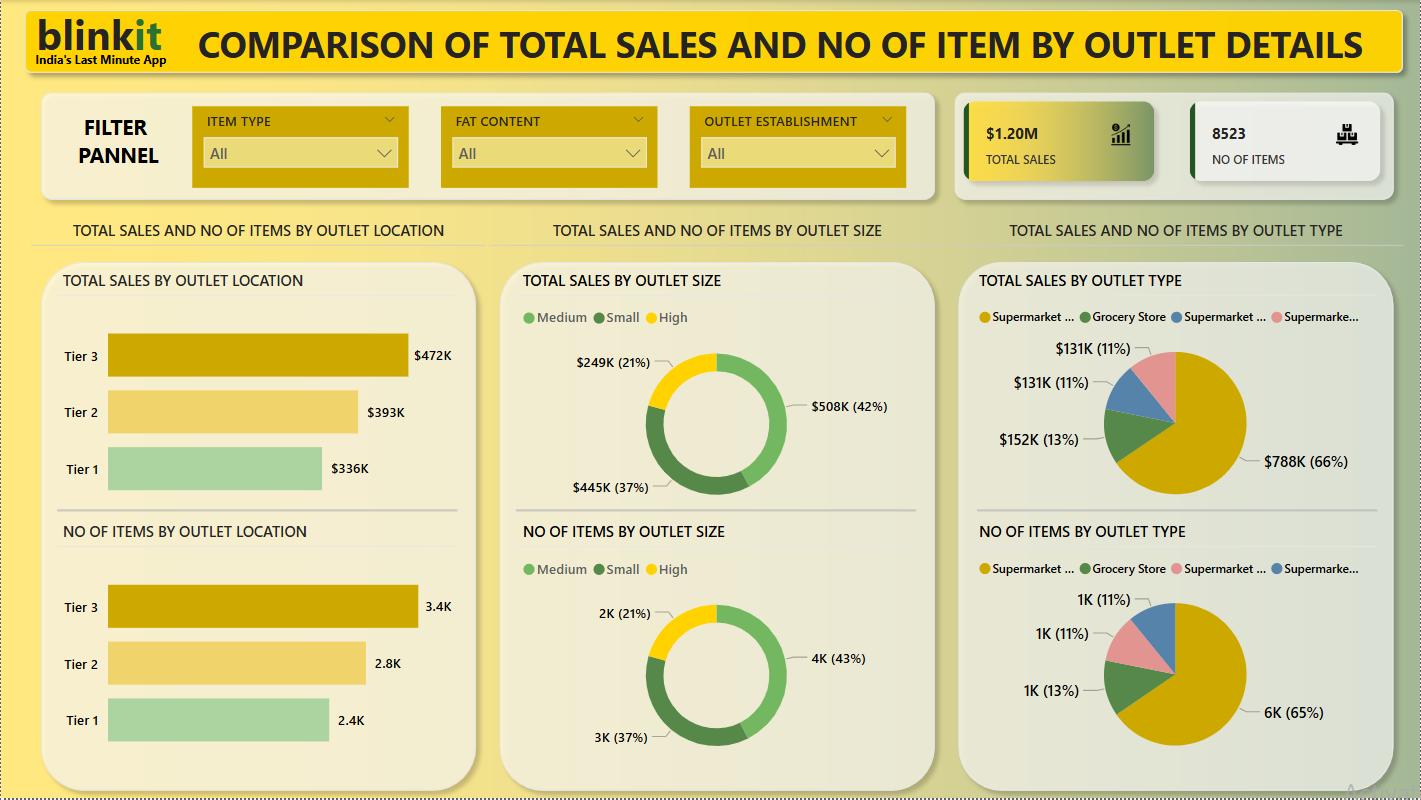

The page's visual inventory and layout, read from the dashboard file:
{"tool":"powerbi","page":{"name":"Page 2","canvas":[1280,720],"ordinal":1},"visuals":[{"type":"shape","box":[12.2,0,1260.7,74.6],"z":0},{"type":"textbox","box":[172.5,13.3,1088.2,61.5],"z":1000},{"type":"shape","title":"TOTAL SALES AND NO OF ITEMS BY OUTLET LOCATION","box":[26.5,197.9,410.2,522.4],"z":2000},{"type":"barChart","title":"TOTAL SALES BY OUTLET LOCATION","fields":{"Category":["BlinkIT Grocery Data.Outlet Location Type"],"Y":["BlinkIT Grocery Data.Total Sales"]},"box":[50.7,243.7,360.7,225],"z":3000},{"type":"barChart","title":"NO OF ITEMS BY OUTLET LOCATION","fields":{"Category":["BlinkIT Grocery Data.Outlet Location Type"],"Y":["BlinkIT Grocery Data.No of Items"]},"box":[50.7,470.5,360.7,225],"z":4000},{"type":"shape","box":[50.7,429.5,360.7,61.5],"z":5000},{"type":"shape","title":"TOTAL SALES AND NO OF ITEMS BY OUTLET SIZE","box":[440.4,197.9,410.2,522.4],"z":6000},{"type":"shape","title":"TOTAL SALES AND NO OF ITEMS BY OUTLET TYPE","box":[854.2,197.9,410.2,522.4],"z":7000},{"type":"donutChart","title":"TOTAL SALES BY OUTLET SIZE","fields":{"Category":["BlinkIT Grocery Data.Outlet Size"],"Y":["BlinkIT Grocery Data.Total Sales"]},"box":[465.7,243.7,359.5,225],"z":8000},{"type":"shape","box":[464.5,429.5,360.7,61.5],"z":9000},{"type":"donutChart","title":"NO OF ITEMS BY OUTLET SIZE","fields":{"Category":["BlinkIT Grocery Data.Outlet Size"],"Y":["BlinkIT Grocery Data.No of Items"]},"box":[465.7,470.5,359.5,225],"z":10000},{"type":"shape","box":[850.5,74.8,413.8,114.6],"z":11000},{"type":"pieChart","title":"TOTAL SALES BY OUTLET TYPE","fields":{"Category":["BlinkIT Grocery Data.Outlet Type"],"Y":["BlinkIT Grocery Data.Total Sales"]},"box":[877.1,243.7,364.3,225],"z":12000},{"type":"shape","box":[880.7,429.5,360.7,61.5],"z":13000},{"type":"pieChart","title":"NO OF ITEMS BY OUTLET TYPE","fields":{"Category":["BlinkIT Grocery Data.Outlet Type"],"Y":["BlinkIT Grocery Data.No of Items"]},"box":[877.1,470.5,364.3,225],"z":14000},{"type":"cardVisual","fields":{"Data":["BlinkIT Grocery Data.Total Sales","BlinkIT Grocery Data.No of Items"]},"box":[850.5,74.8,410.2,106.2],"z":15000},{"type":"shape","box":[26.5,74.8,824,114.6],"z":16000},{"type":"slicer","fields":{"Values":["BlinkIT Grocery Data.Item Type"]},"box":[172.5,95.3,195.4,73.6],"z":17000},{"type":"slicer","fields":{"Values":["BlinkIT Grocery Data.Item Fat Content"]},"box":[396.9,95.3,195.4,73.6],"z":18000},{"type":"slicer","fields":{"Values":["BlinkIT Grocery Data.Outlet Establishment Year"]},"box":[621.3,95.3,195.4,73.6],"z":19000},{"type":"textbox","box":[50.7,96.5,109.8,72.4],"z":20000},{"type":"textbox","box":[26.9,0,145.5,74.6],"z":20001},{"type":"textbox","box":[25.7,37.9,160.2,42.8],"z":20002}]}

Visuals, with their boxes in screenshot pixels (x1, y1, x2, y2), scaled from the page's 1280x720 canvas onto the 1421x800 screenshot:
shape: [left=14, top=0, right=1413, bottom=83]
textbox: [left=192, top=15, right=1400, bottom=83]
"TOTAL SALES AND NO OF ITEMS BY OUTLET LOCATION" shape: [left=29, top=220, right=485, bottom=799]
"TOTAL SALES BY OUTLET LOCATION" barChart: [left=56, top=271, right=457, bottom=521]
"NO OF ITEMS BY OUTLET LOCATION" barChart: [left=56, top=523, right=457, bottom=773]
shape: [left=56, top=477, right=457, bottom=546]
"TOTAL SALES AND NO OF ITEMS BY OUTLET SIZE" shape: [left=489, top=220, right=944, bottom=799]
"TOTAL SALES AND NO OF ITEMS BY OUTLET TYPE" shape: [left=948, top=220, right=1404, bottom=799]
"TOTAL SALES BY OUTLET SIZE" donutChart: [left=517, top=271, right=916, bottom=521]
shape: [left=516, top=477, right=916, bottom=546]
"NO OF ITEMS BY OUTLET SIZE" donutChart: [left=517, top=523, right=916, bottom=773]
shape: [left=944, top=83, right=1404, bottom=210]
"TOTAL SALES BY OUTLET TYPE" pieChart: [left=974, top=271, right=1378, bottom=521]
shape: [left=978, top=477, right=1378, bottom=546]
"NO OF ITEMS BY OUTLET TYPE" pieChart: [left=974, top=523, right=1378, bottom=773]
cardVisual - BlinkIT Grocery Data.Total Sales x BlinkIT Grocery Data.No of Items: [left=944, top=83, right=1400, bottom=201]
shape: [left=29, top=83, right=944, bottom=210]
slicer - BlinkIT Grocery Data.Item Type: [left=192, top=106, right=408, bottom=188]
slicer - BlinkIT Grocery Data.Item Fat Content: [left=441, top=106, right=658, bottom=188]
slicer - BlinkIT Grocery Data.Outlet Establishment Year: [left=690, top=106, right=907, bottom=188]
textbox: [left=56, top=107, right=178, bottom=188]
textbox: [left=30, top=0, right=191, bottom=83]
textbox: [left=29, top=42, right=206, bottom=90]
